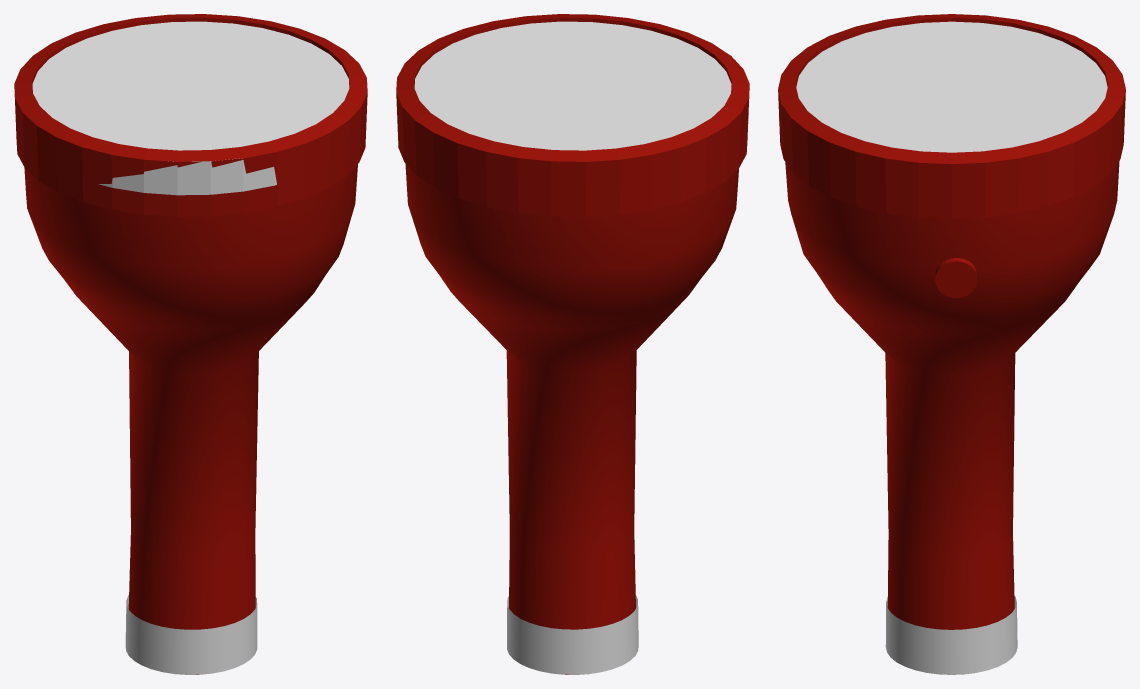
Rendered from flashlight.fbx.
3 renders of one model, left to right at view 1: azimuth 30°, elevation 25°; view 2: azimuth 150°, elevation 25°; view 3: azimuth 270°, elevation 25°, orthographic.
Parts seen in each view (by area): view 1: Sphere; view 2: Sphere; view 3: Sphere.
Boxes of the visible parts, <box> form: Sphere: <box>14,14,367,674</box>; Sphere: <box>396,14,749,674</box>; Sphere: <box>778,14,1125,674</box>.
Bounding box in the file's own units: 135 × 236 × 132.
